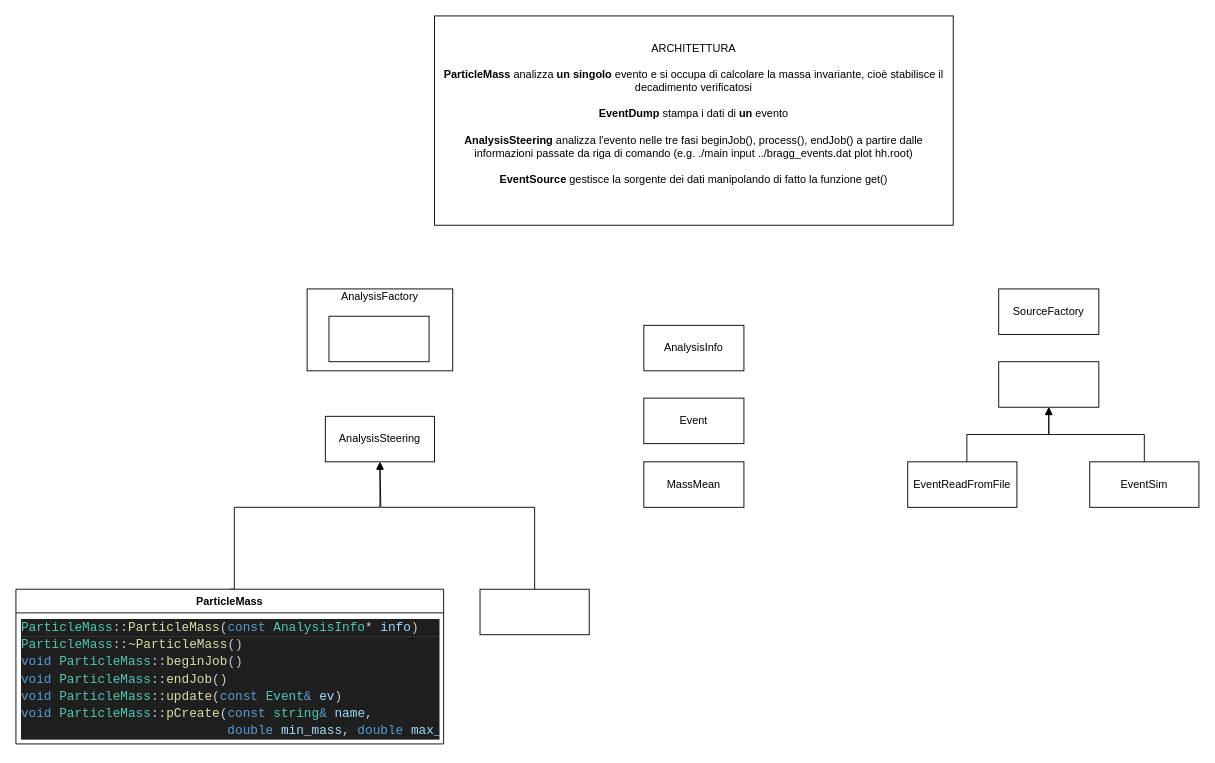
This 1215x763 diagram has some shape labels left out. Each missing label, with the centre of its shape:
"AbsFactory" belongs at [378,338].
"EventDump" belongs at [534,611].
"EventSource" belongs at [1048,384].
